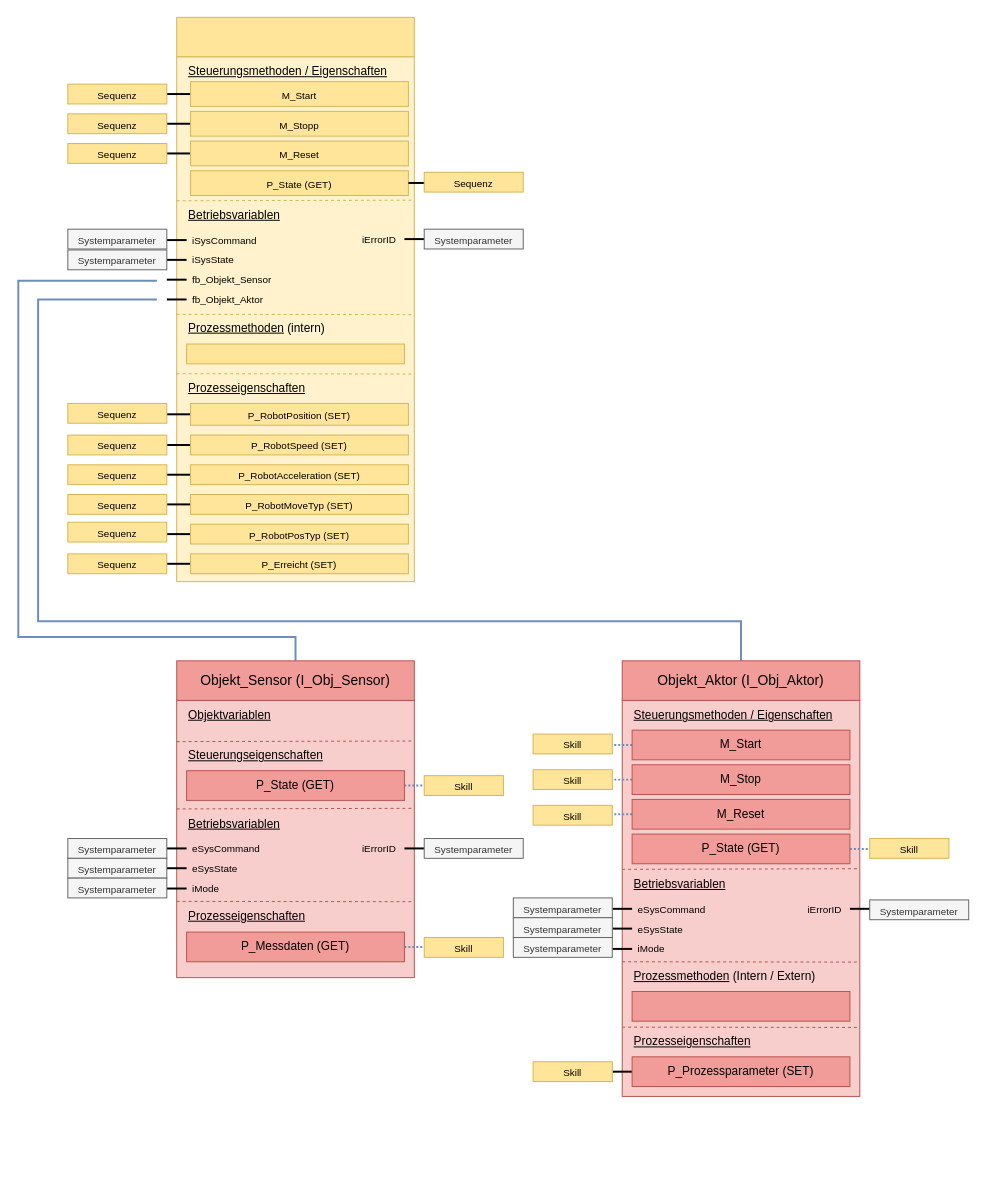
Some shapes in this 986 by 1194 pixel diagram are drawn without their labels. The centre of each missing label's shape, as x and y in pixels:
M_Auswertung: the point at 295,353
M_MoveAktor: the point at 740,1005
Skill_P2P: the point at 295,36
